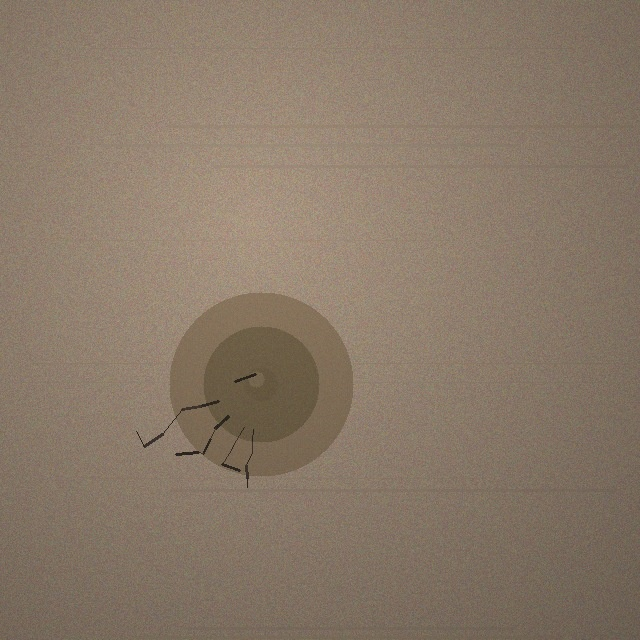crack: (169, 292, 353, 476)
